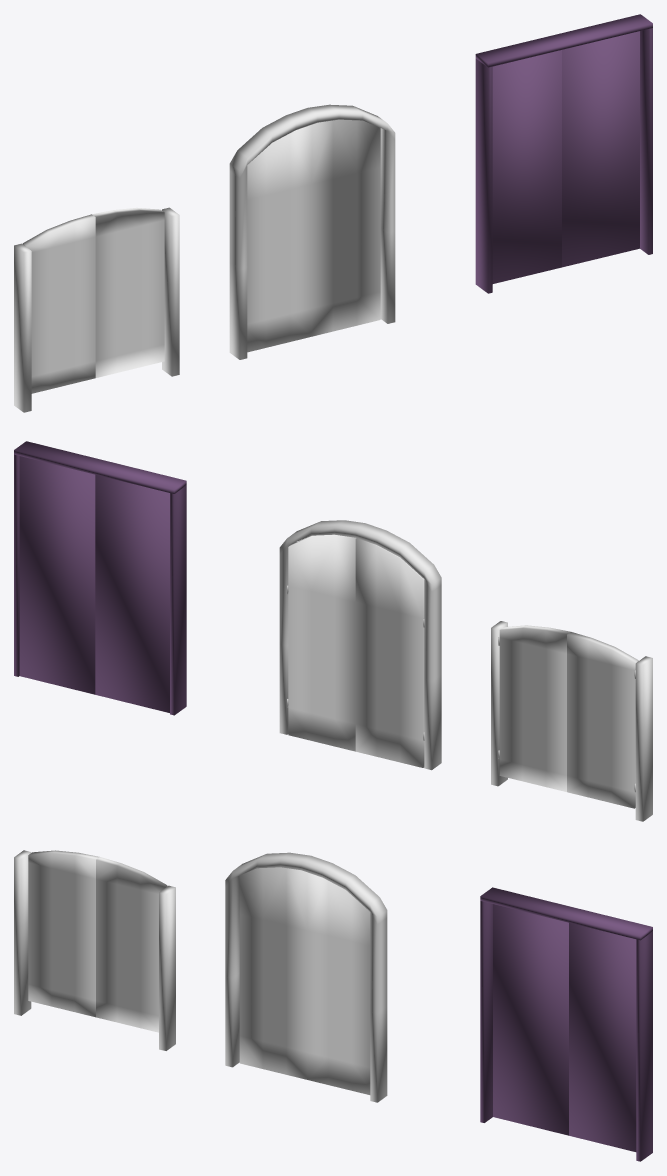
The model's file is Door swing full.obj.
The picture shows the model from 3 angles, top to bottom: view 1: azimuth 30°, elevation 25°; view 2: azimuth 150°, elevation 25°; view 3: azimuth 330°, elevation 25°; orthographic projection. The views are drawn at different scales.
Parts seen in each view (by area): view 1: Squared, Door1_right, Door1_left, Swing001, Swing002, Arco_Door1, Arco_Swing1; view 2: Squared, Door1_left, Door1_right, Swing002, Swing001, Arco_Door1, Arco_Swing1; view 3: Squared, Door1_left, Door1_right, Swing002, Swing001, Arco_Door1, Arco_Swing1.
Part boxes in pixels (left/top/right/bottom): Squared: left=475, top=14, right=652, bottom=293; Door1_right: left=311, top=119, right=380, bottom=336; Door1_left: left=247, top=125, right=311, bottom=352; Swing001: left=92, top=207, right=164, bottom=377; Swing002: left=22, top=214, right=95, bottom=393; Arco_Door1: left=229, top=104, right=395, bottom=359; Arco_Swing1: left=14, top=207, right=179, bottom=412; Squared: left=14, top=441, right=186, bottom=715; Door1_left: left=355, top=538, right=424, bottom=767; Door1_right: left=288, top=534, right=356, bottom=751; Swing002: left=567, top=632, right=638, bottom=808; Swing001: left=499, top=625, right=570, bottom=791; Arco_Door1: left=279, top=520, right=441, bottom=770; Arco_Swing1: left=491, top=621, right=652, bottom=821; Squared: left=480, top=887, right=652, bottom=1161; Door1_left: left=239, top=867, right=307, bottom=1079; Door1_right: left=307, top=872, right=370, bottom=1094; Swing002: left=28, top=850, right=99, bottom=1017; Swing001: left=96, top=857, right=167, bottom=1032; Arco_Door1: left=225, top=852, right=387, bottom=1102; Arco_Swing1: left=14, top=850, right=175, bottom=1050.
Size of the model in its own units: 289 by 100 by 14.55.
